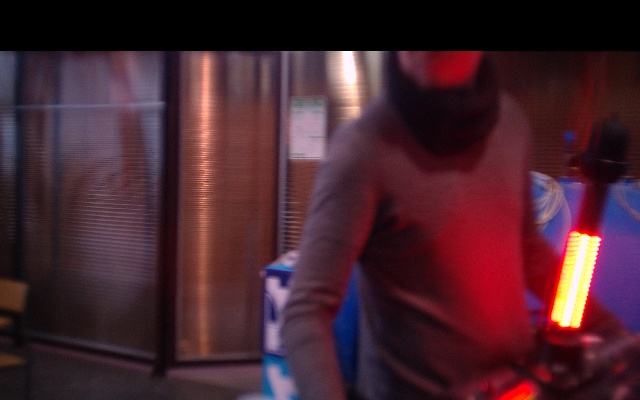red: (548, 229, 602, 330)
